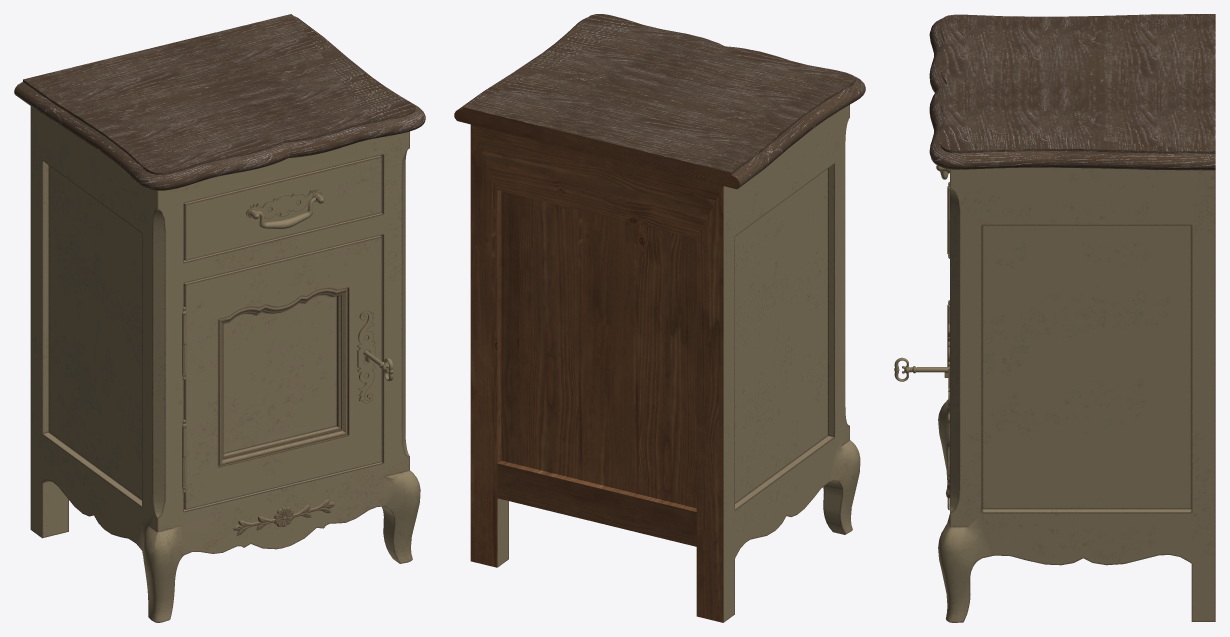
The model's file is example65.glb.
3 views of the same model, side by side, from view 1: azimuth 30°, elevation 25°; view 2: azimuth 150°, elevation 25°; view 3: azimuth 270°, elevation 25° (orthographic). The views are drawn at different scales.
Visible parts, largest first — view 1: Buffer Layer (×3); view 2: Buffer Layer (×3); view 3: Buffer Layer (×3).
Part boxes in pixels (box(x1,y1,x2,y2)): Buffer Layer (×3): box(14, 14, 425, 622); Buffer Layer (×3): box(454, 14, 865, 622); Buffer Layer (×3): box(894, 14, 1215, 622).
Bounding box in the file's own units: 0.5 × 0.756 × 0.4643.
Materials: 4 (4 with a texture image).
